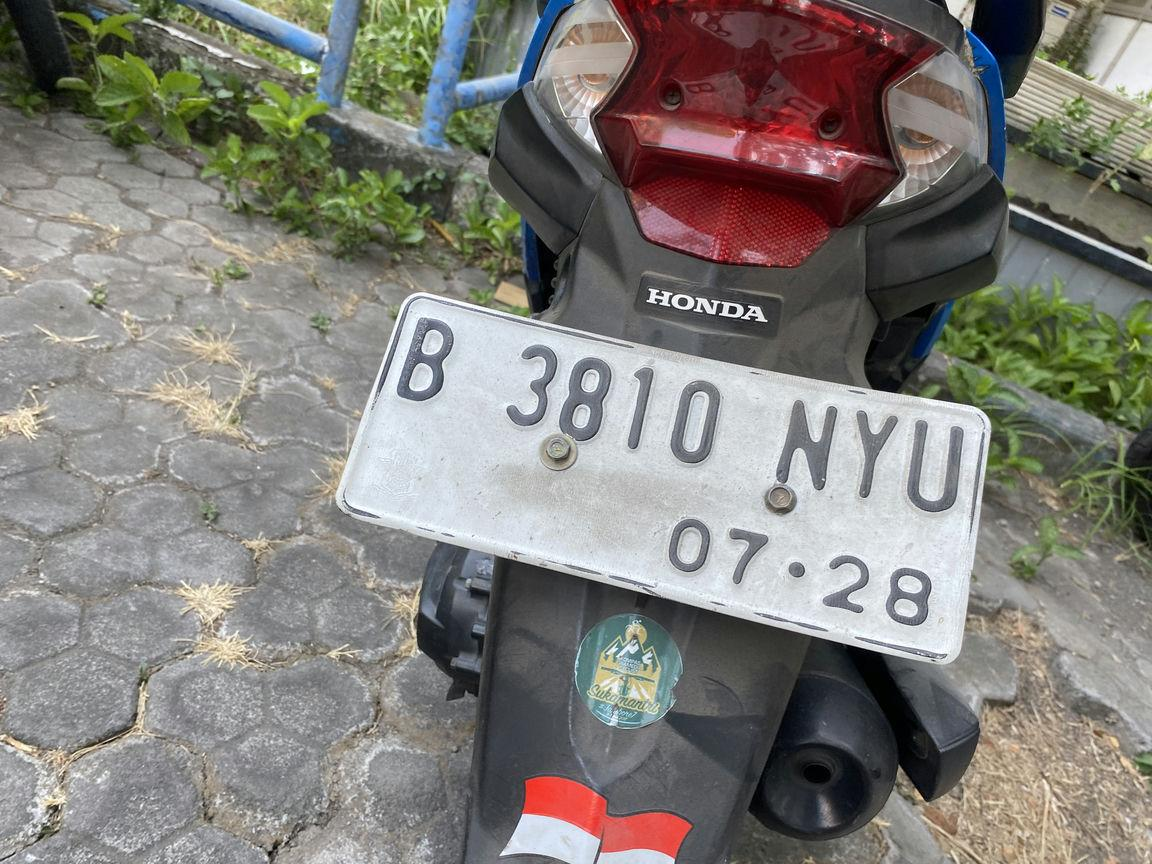plat: (338, 295, 990, 662)
